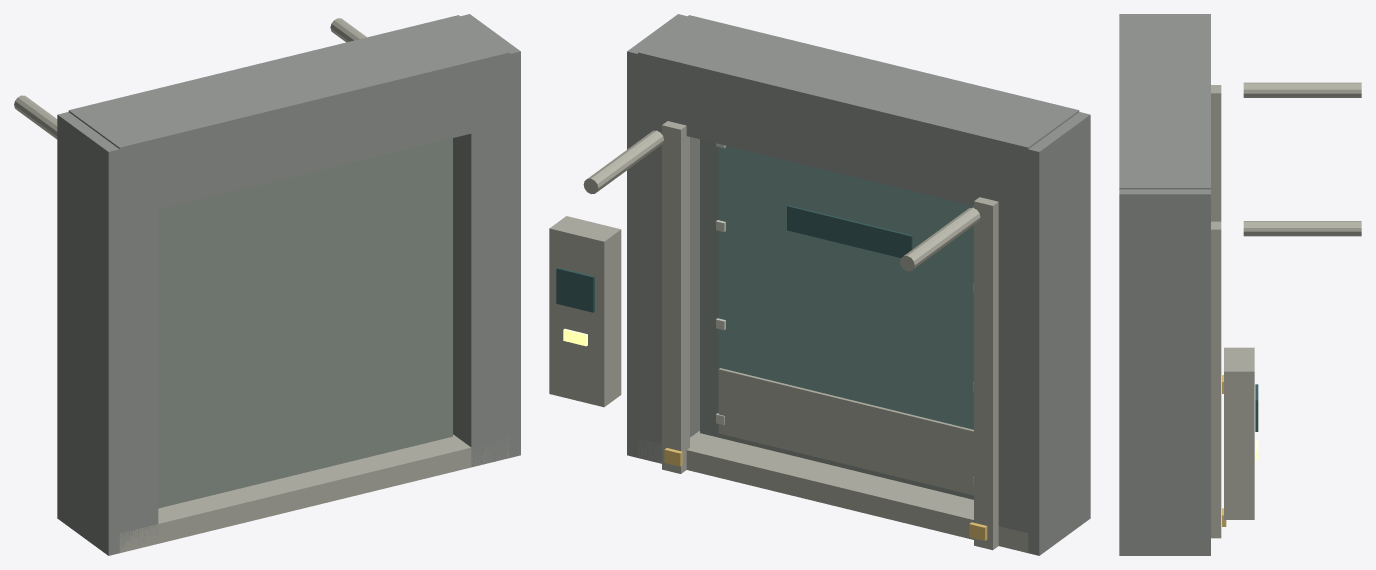
The model's file is shelter_airlock.glb.
The picture shows the model from 3 angles, left to right: view 1: azimuth 30°, elevation 25°; view 2: azimuth 150°, elevation 25°; view 3: azimuth 270°, elevation 25°; orthographic projection. The views are drawn at different scales.
Visible parts, largest first — view 1: door leaf, bulkhead head, bulkhead pier, bulkhead pier.001, bulkhead sill, pressure line; view 2: door inset, bulkhead head, bulkhead pier, door armor, bulkhead pier.001, bulkhead sill, airlock console, inner steel jamb.001, inner steel jamb, door leaf, view slit, pressure line.001 (+2 smaller); view 3: bulkhead pier.001, bulkhead head, airlock console, inner steel jamb.001, pressure line, pressure line.001, inner steel jamb, bulkhead pier.
Boxes of the visible parts, x1,y1,x2,y2 form: door leaf: (158, 138, 452, 508); bulkhead head: (68, 15, 509, 219); bulkhead pier: (57, 112, 158, 555); bulkhead pier.001: (453, 14, 520, 467); bulkhead sill: (119, 434, 509, 552); pressure line: (14, 95, 57, 139); door inset: (718, 145, 973, 429); bulkhead head: (638, 15, 1079, 219); bulkhead pier: (990, 112, 1090, 555); door armor: (718, 368, 973, 495); bulkhead pier.001: (627, 14, 699, 463); bulkhead sill: (638, 431, 1028, 552); airlock console: (549, 216, 621, 407); inner steel jamb.001: (662, 121, 689, 473); inner steel jamb: (974, 197, 998, 550); door leaf: (700, 139, 973, 499); view slit: (787, 205, 912, 257); pressure line.001: (583, 130, 663, 194); bulkhead pier.001: (1119, 189, 1210, 555); bulkhead head: (1119, 17, 1210, 189); airlock console: (1224, 347, 1254, 519); inner steel jamb.001: (1211, 221, 1221, 538); pressure line: (1243, 82, 1361, 97); pressure line.001: (1243, 221, 1361, 236); inner steel jamb: (1211, 85, 1221, 221); bulkhead pier: (1119, 14, 1210, 17).
Size of the model in its own units: 4.42 by 3.67 by 2.22.
